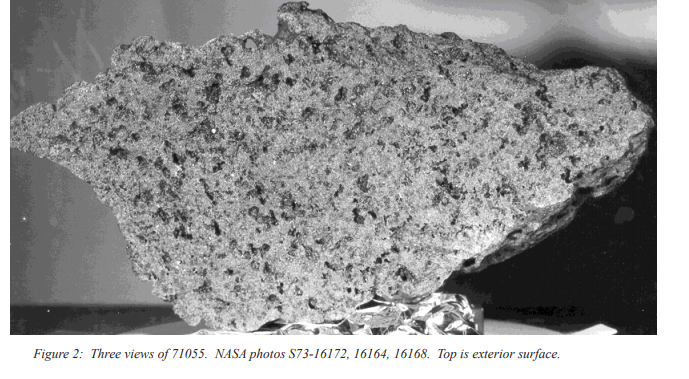Basalt: (41, 42, 568, 318), (186, 95, 446, 267)
